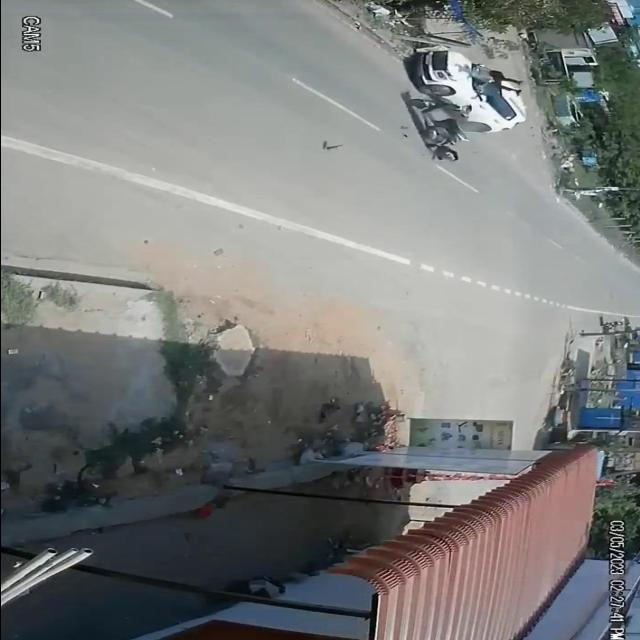accident: (395, 46, 529, 166)
